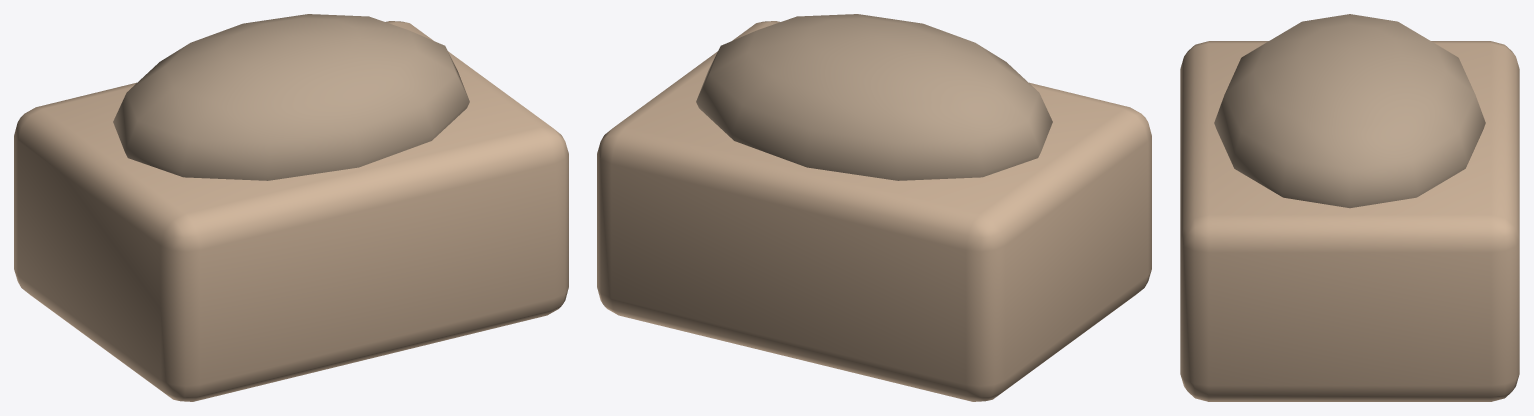
The model's file is compost-carried.glb.
3 renders of one model, left to right at view 1: azimuth 30°, elevation 25°; view 2: azimuth 150°, elevation 25°; view 3: azimuth 270°, elevation 25°, orthographic.
Parts seen in each view (by area): view 1: Cleaning basket, Collected material; view 2: Cleaning basket, Collected material; view 3: Cleaning basket, Collected material.
Part boxes in pixels (<box>): Cleaning basket: <box>14,21,568,401</box>; Collected material: <box>113,14,469,180</box>; Cleaning basket: <box>597,21,1151,401</box>; Collected material: <box>696,14,1052,180</box>; Cleaning basket: <box>1180,41,1519,401</box>; Collected material: <box>1214,14,1485,208</box>.
Size of the model in its own units: 0.68 by 0.43 by 0.5.
